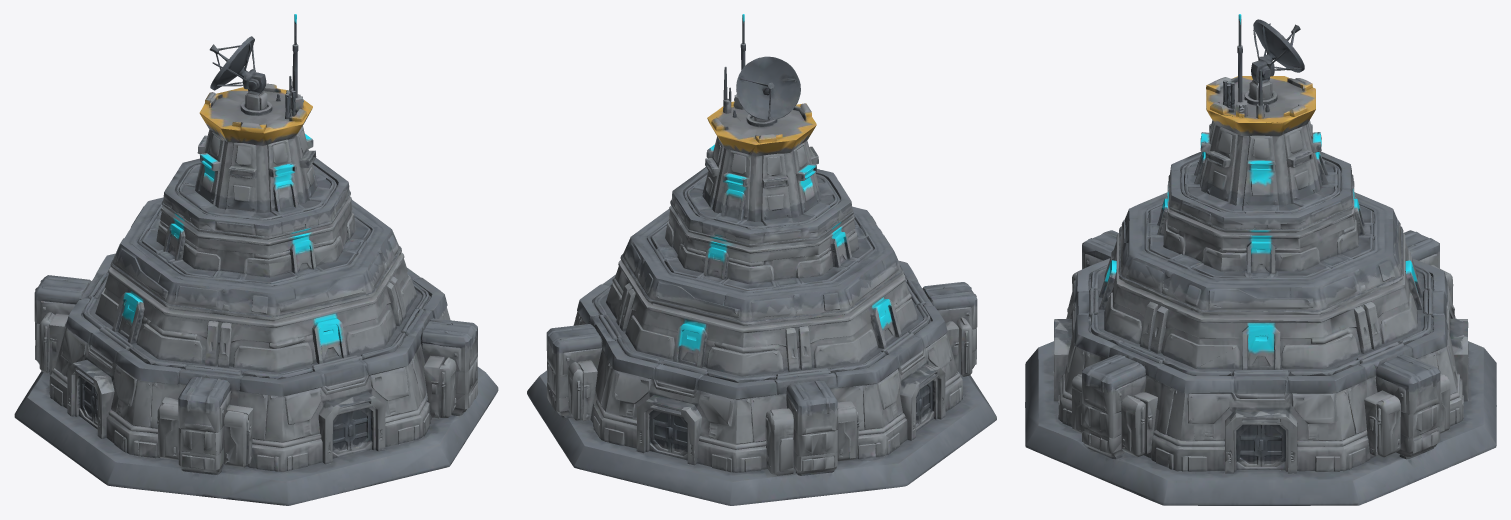
Rendered from town-cc-full.glb.
3 views of the same model, side by side, from view 1: azimuth 30°, elevation 25°; view 2: azimuth 150°, elevation 25°; view 3: azimuth 270°, elevation 25° (orthographic). The views are drawn at different scales.
Parts seen in each view (by area): view 1: town-cc-full; view 2: town-cc-full; view 3: town-cc-full.
Part boxes in pixels (box(x1,y1,x2,y2)): town-cc-full: box(14, 14, 498, 505); town-cc-full: box(527, 14, 996, 505); town-cc-full: box(1025, 14, 1496, 505).
Bounding box in the file's own units: 14.4 × 13.71 × 14.4.
1 material, 1 textured.
